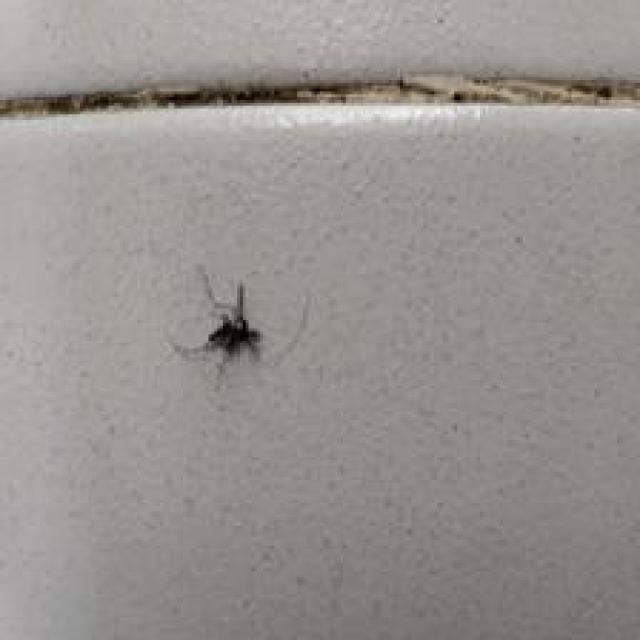Aedes albopictus: (173, 270, 267, 361)
